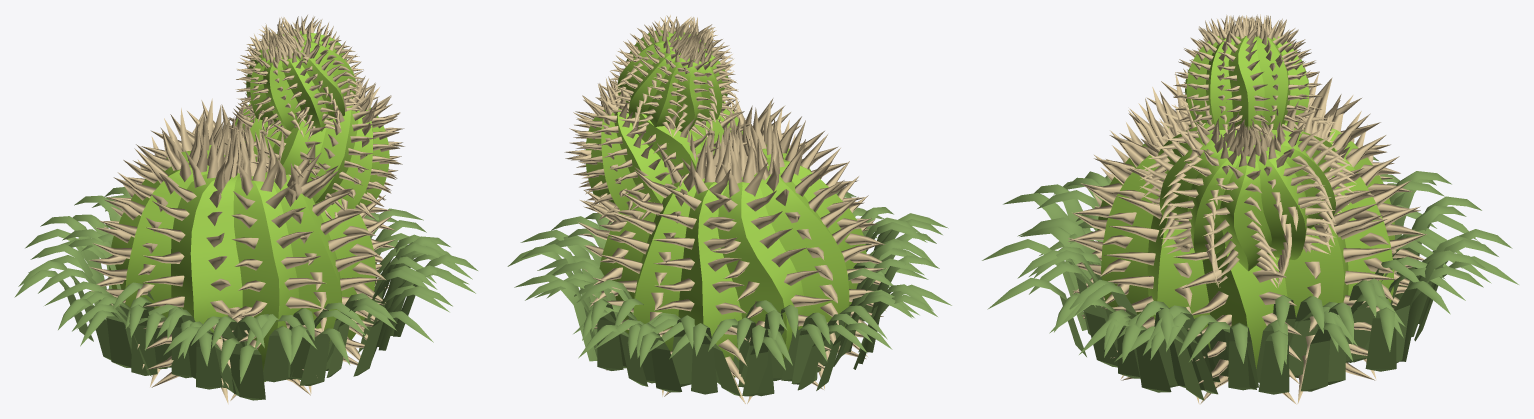
File: SCactus3.fbx
The picture shows the model from 3 angles, left to right: view 1: azimuth 30°, elevation 25°; view 2: azimuth 150°, elevation 25°; view 3: azimuth 270°, elevation 25°; orthographic projection. The views are drawn at different scales.
Visible parts, largest first — view 1: SCactus3; view 2: SCactus3; view 3: SCactus3.
Part boxes in pixels (bbox=[...]): SCactus3: bbox=[14, 15, 477, 404]; SCactus3: bbox=[507, 15, 951, 403]; SCactus3: bbox=[982, 14, 1518, 404].
Size of the model in its own units: 335 by 256 by 348.
